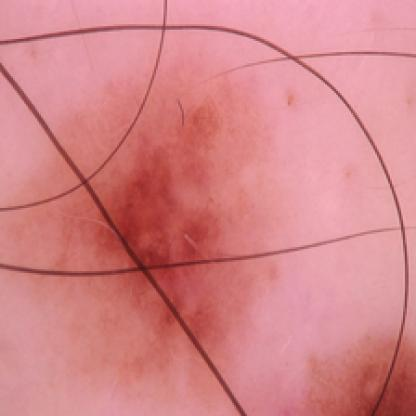benign: (52, 112, 290, 344)
